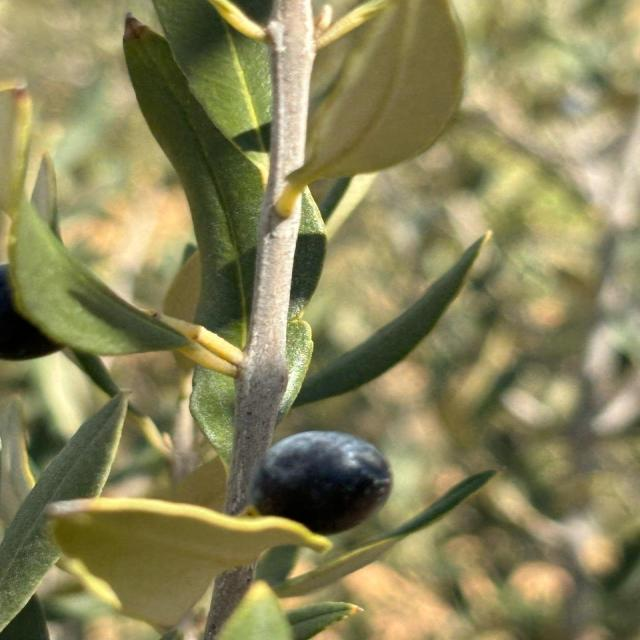Healthy: (292, 231, 492, 408), (252, 431, 393, 536)
